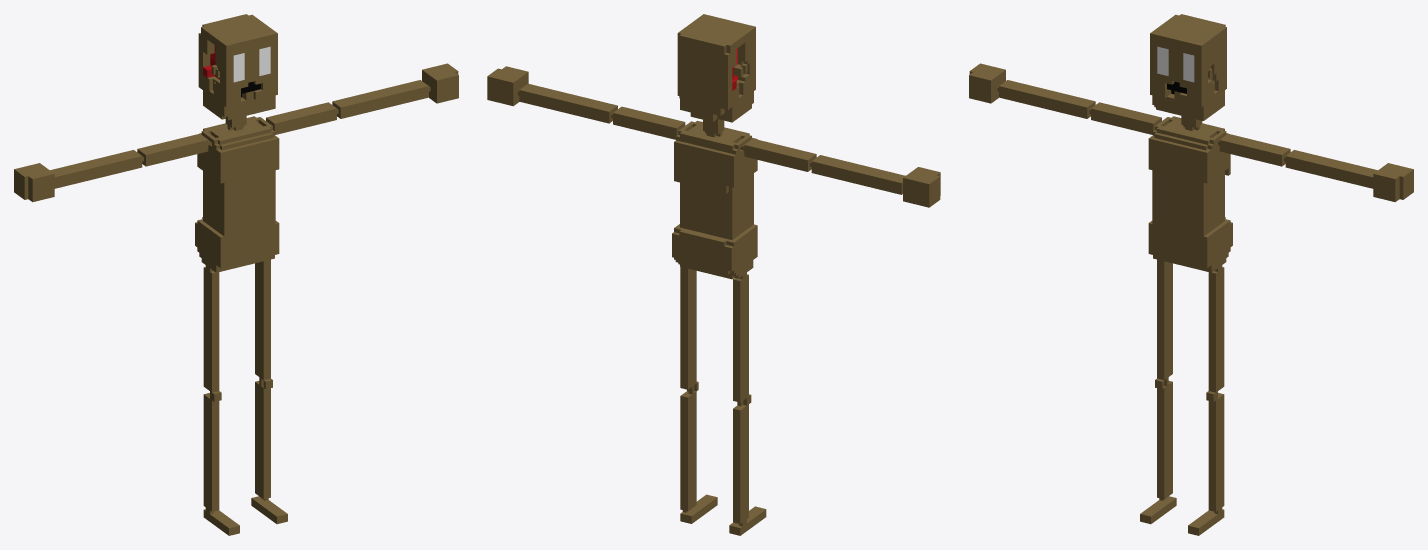
Rendered from Ghoul2-1.obj.
3 views of the same model, side by side, from view 1: azimuth 30°, elevation 25°; view 2: azimuth 150°, elevation 25°; view 3: azimuth 330°, elevation 25° (orthographic).
Size of the model in its own units: 11.8 by 12.6 by 1.6.
1 material, 1 textured.
